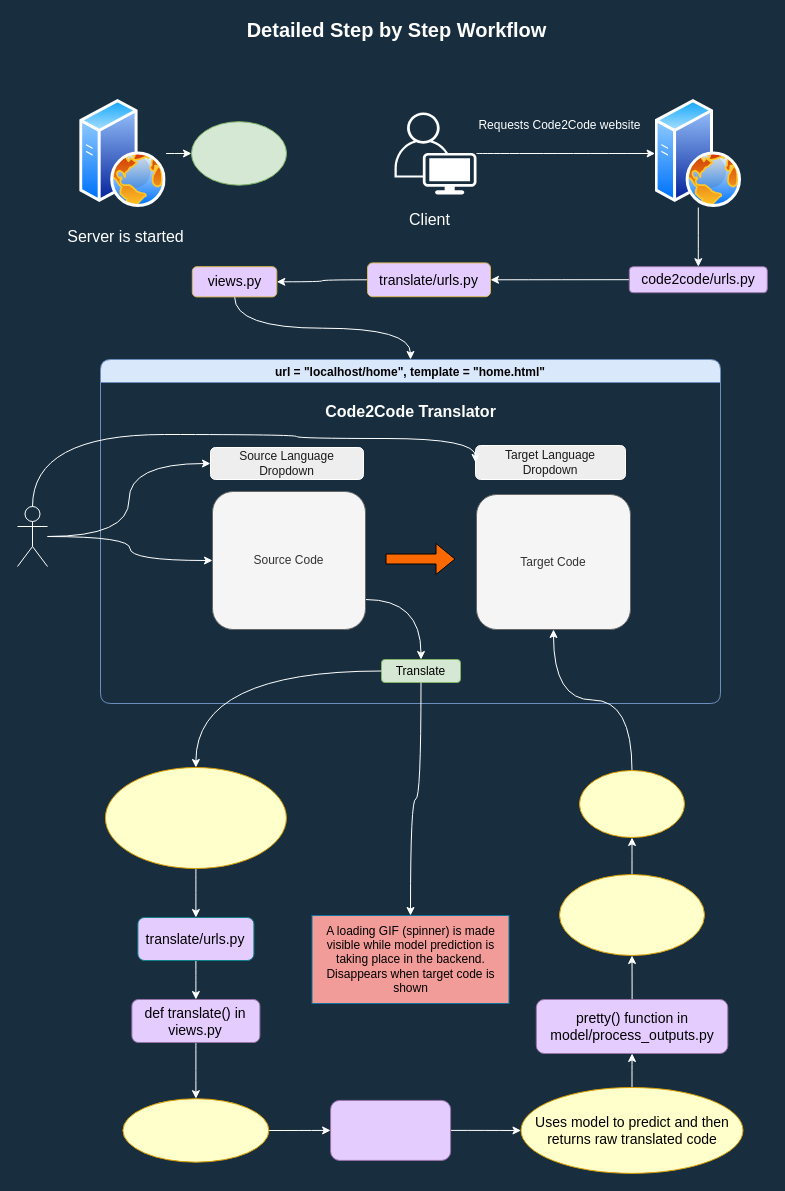
Some shapes in this 785 by 1191 pixel diagram are drawn without their labels. The shapes that lost their labels are listed below. From the top down, each one's centre as x and y in pixels, then its label:
(238,153): Model is initialized
(32,536): User
(195,817): AJAX call sends data to "/translate" url as POST request
(631,804): Populates Target Code
(631,915): Sends processed output to AJAX call as response
(195,1130): Extracts data and sends to predict.py
(390,1129): model/predict.py
